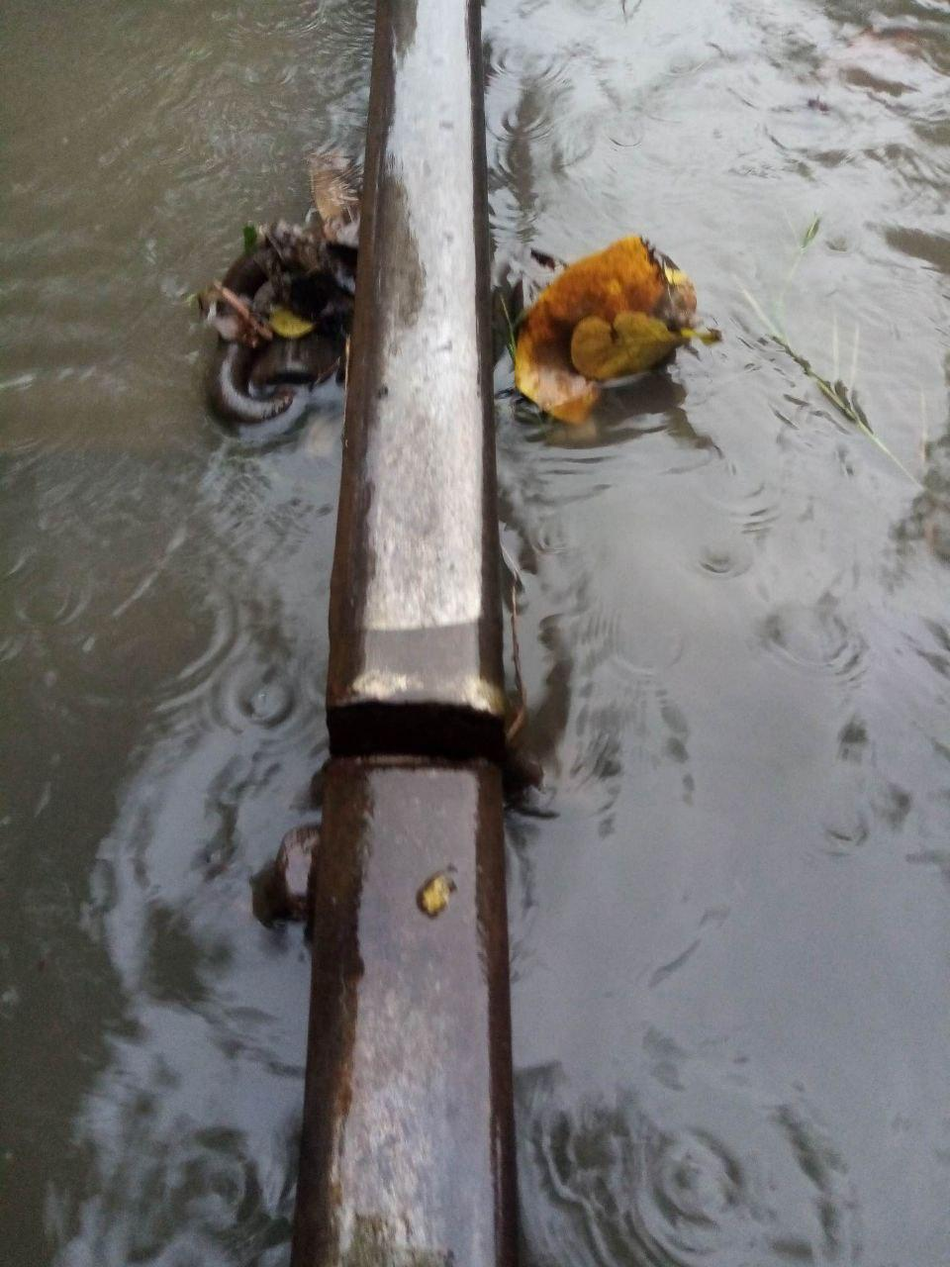railway-gap: (273, 598, 560, 878)
